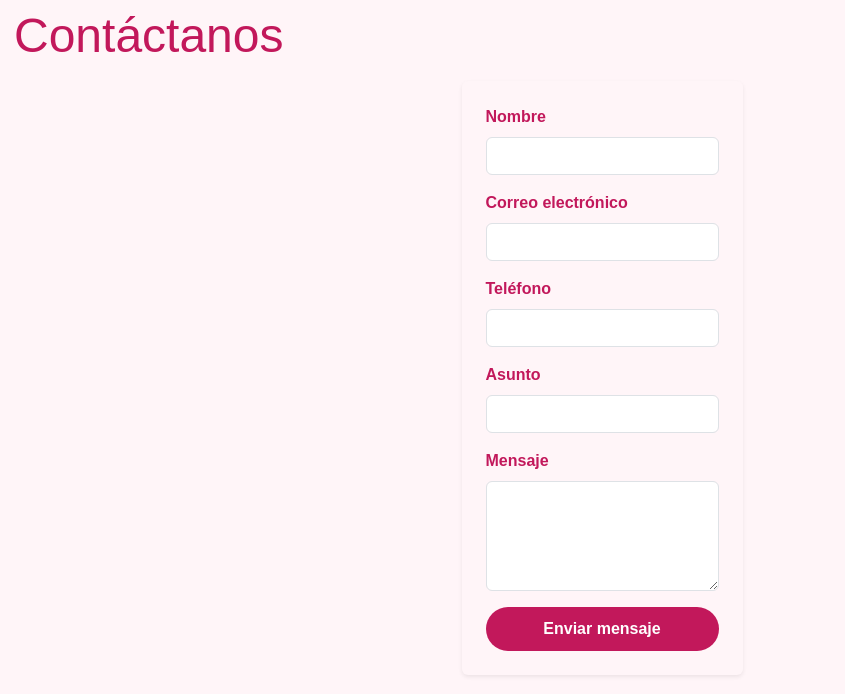
Scenario: Página Contacto › envía el formulario y muestra el mensaje de enviado
The width and height of the screenshot is (845, 694).
Step 1. Type "Lucas" into the field named "nombre" below "Nombre" → (602, 156), box [486,137,718,175]
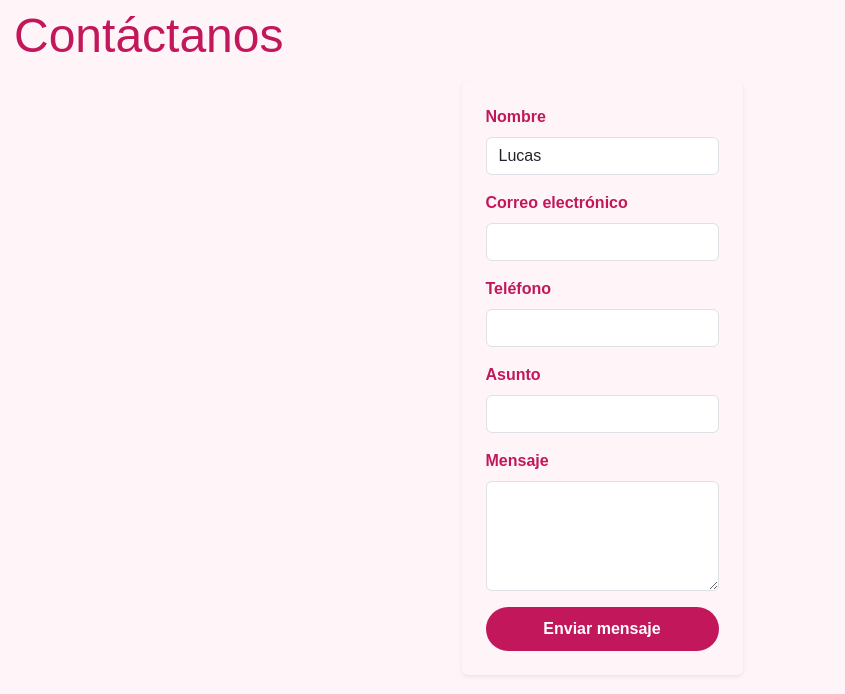
Step 2. Type "lucas@duoc.cl" into the field named "correo" below "Correo electrónico" → (602, 242), box [486,223,718,261]
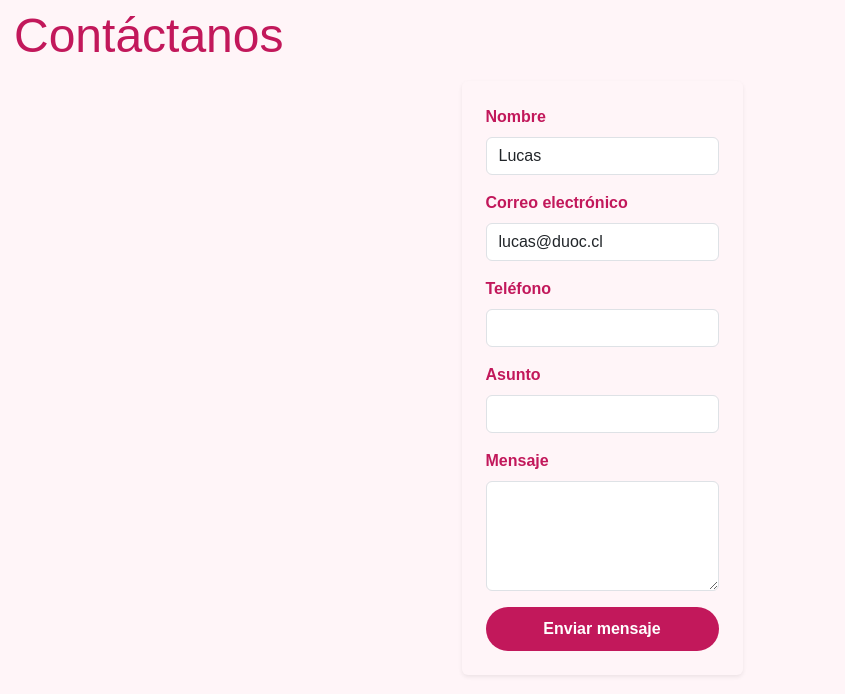
Step 3. Type "987654321" into the field named "telefono" below "Teléfono" → (602, 328), box [486,309,718,347]
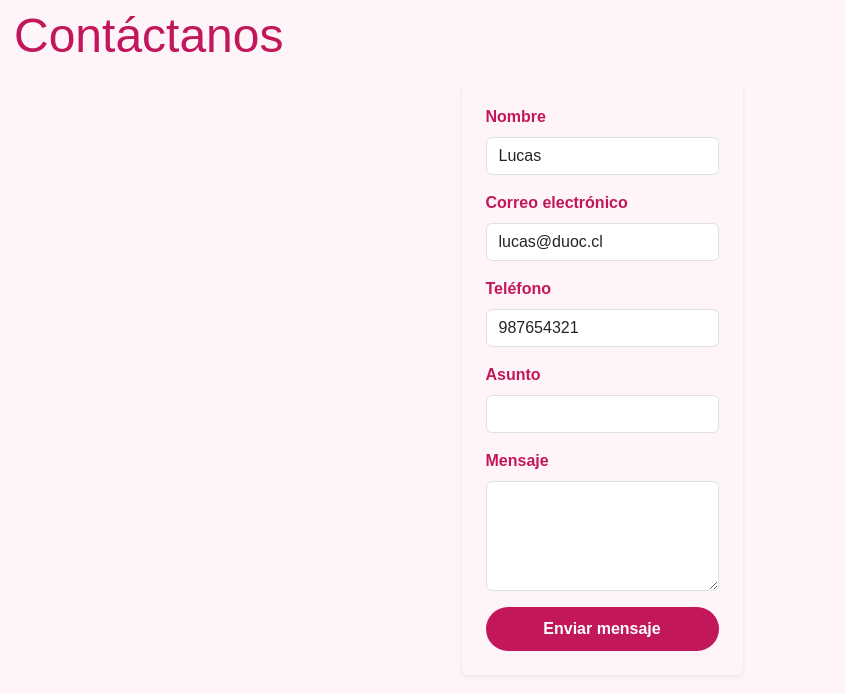
Step 4. Type "Consulta torta" into the field named "asunto" below "Asunto" → (602, 414), box [486,395,718,433]
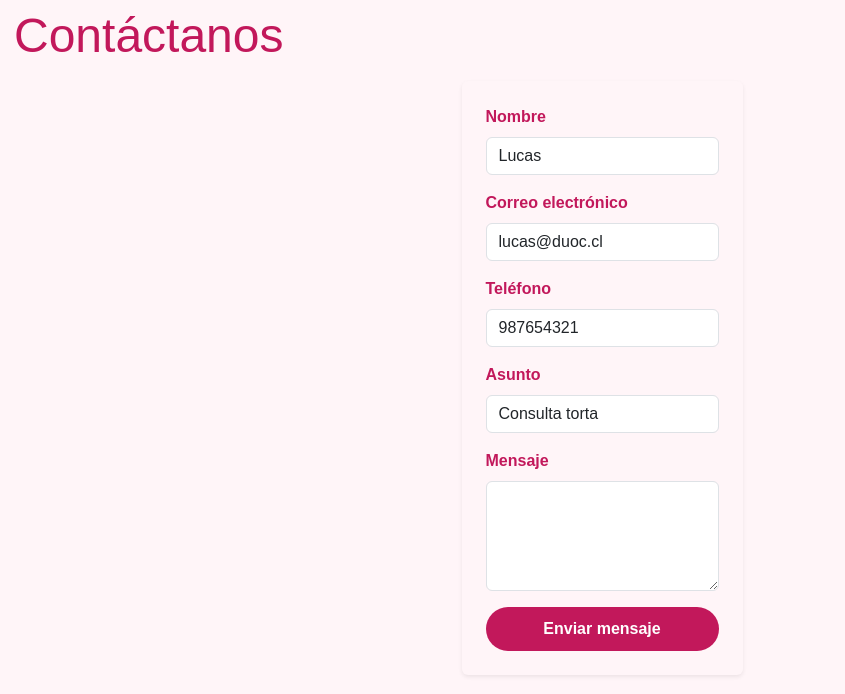
Step 5. Type "Hola, quiero hacer un pedido de prueba" into the text box named "mensaje" → (602, 536), box [486,481,718,591]
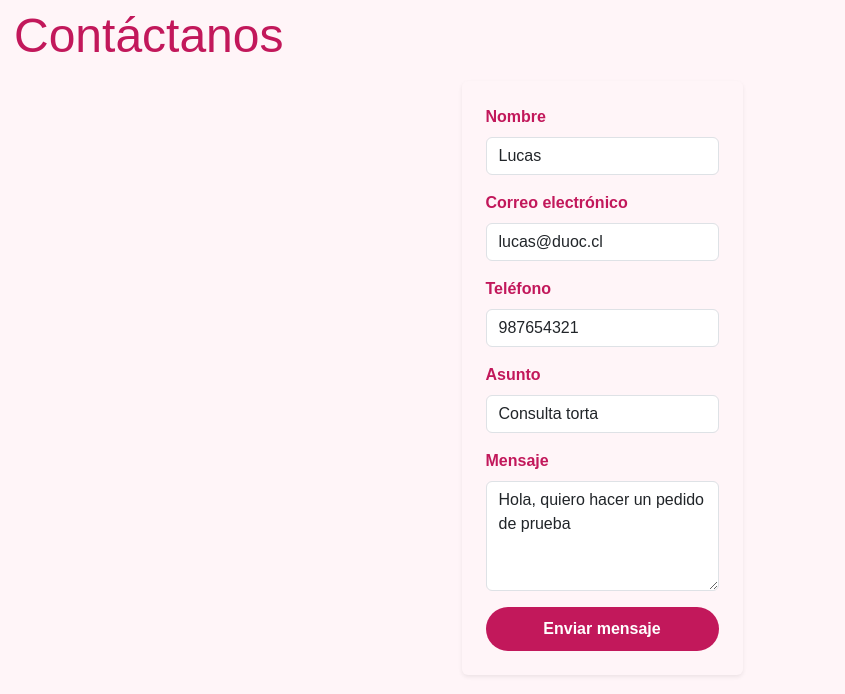
Step 6. Click the button "Enviar mensaje" → (602, 629), box [486,607,718,651]
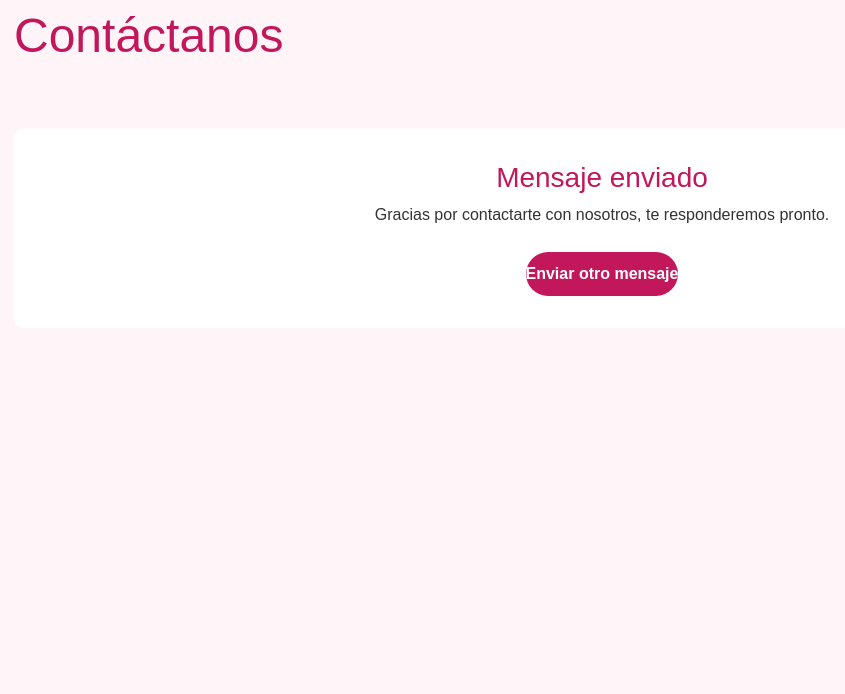
Now the heading "Mensaje enviado" is shown, box [496,162,708,193]
